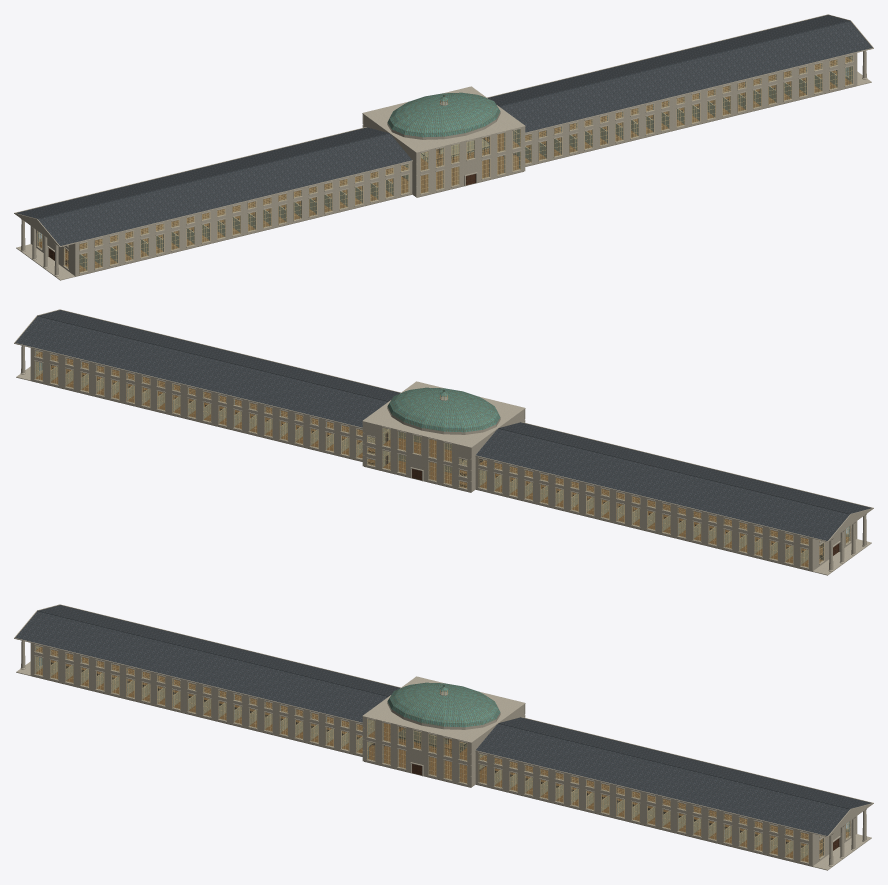
The model's file is quincy-market-hall.gltf.
3 views of the same model, one above another, from view 1: azimuth 30°, elevation 25°; view 2: azimuth 150°, elevation 25°; view 3: azimuth 330°, elevation 25° (orthographic).
Visible parts, largest first — view 1: roof-L3-slate, glazing-L0-glass, exterior-L2-granite, exterior-L0-granite, exterior-L1-granite, facade-trim-L0-sash, interior-L0-plaster, roof-L4-copper, floor-L0-wood, facade-trim-L2-sash, glazing-L2-glass, roof-L4-granite (+11 smaller); view 2: roof-L3-slate, glazing-L0-glass, exterior-L2-granite, exterior-L0-granite, exterior-L1-granite, facade-trim-L0-sash, interior-L0-plaster, roof-L4-copper, facade-trim-L2-sash, glazing-L2-glass, roof-L4-granite, roof-trim-L3-granite (+11 smaller); view 3: roof-L3-slate, glazing-L0-glass, exterior-L2-granite, exterior-L0-granite, exterior-L1-granite, facade-trim-L0-sash, interior-L0-plaster, roof-L4-copper, facade-trim-L2-sash, glazing-L2-glass, floor-L0-wood, roof-L4-granite (+12 smaller).
Boxes of the visible parts, box(x1,y1,x2,y2) form: roof-L3-slate: box(16, 15, 872, 245); glazing-L0-glass: box(38, 66, 852, 271); exterior-L2-granite: box(65, 53, 857, 253); exterior-L0-granite: box(30, 68, 857, 276); exterior-L1-granite: box(30, 64, 857, 264); facade-trim-L0-sash: box(37, 66, 853, 272); interior-L0-plaster: box(79, 71, 836, 269); roof-L4-copper: box(387, 92, 500, 137); floor-L0-wood: box(38, 70, 851, 271); facade-trim-L2-sash: box(68, 55, 853, 250); glazing-L2-glass: box(80, 56, 852, 249); roof-L4-granite: box(362, 86, 525, 153); roof-L3-slate: box(15, 310, 871, 540); glazing-L0-glass: box(35, 361, 849, 566); exterior-L2-granite: box(30, 348, 822, 548); exterior-L0-granite: box(30, 363, 857, 571); exterior-L1-granite: box(30, 359, 857, 559); facade-trim-L0-sash: box(34, 361, 850, 567); interior-L0-plaster: box(51, 366, 808, 564); roof-L4-copper: box(387, 387, 500, 432); facade-trim-L2-sash: box(34, 350, 819, 545); glazing-L2-glass: box(35, 351, 807, 544); roof-L4-granite: box(362, 381, 525, 448); roof-trim-L3-granite: box(14, 309, 873, 542); roof-L3-slate: box(15, 605, 871, 835); glazing-L0-glass: box(35, 656, 849, 861); exterior-L2-granite: box(30, 643, 822, 843); exterior-L0-granite: box(30, 658, 857, 866); exterior-L1-granite: box(30, 654, 857, 854); facade-trim-L0-sash: box(34, 656, 850, 862); interior-L0-plaster: box(51, 661, 808, 859); roof-L4-copper: box(387, 682, 500, 727); facade-trim-L2-sash: box(34, 645, 819, 840); glazing-L2-glass: box(35, 646, 807, 839); floor-L0-wood: box(36, 668, 849, 861); roof-L4-granite: box(362, 676, 525, 743).
Size of the model in its own units: 160 by 13.15 by 18.62.
Materials: 10 (9 with a texture image).
